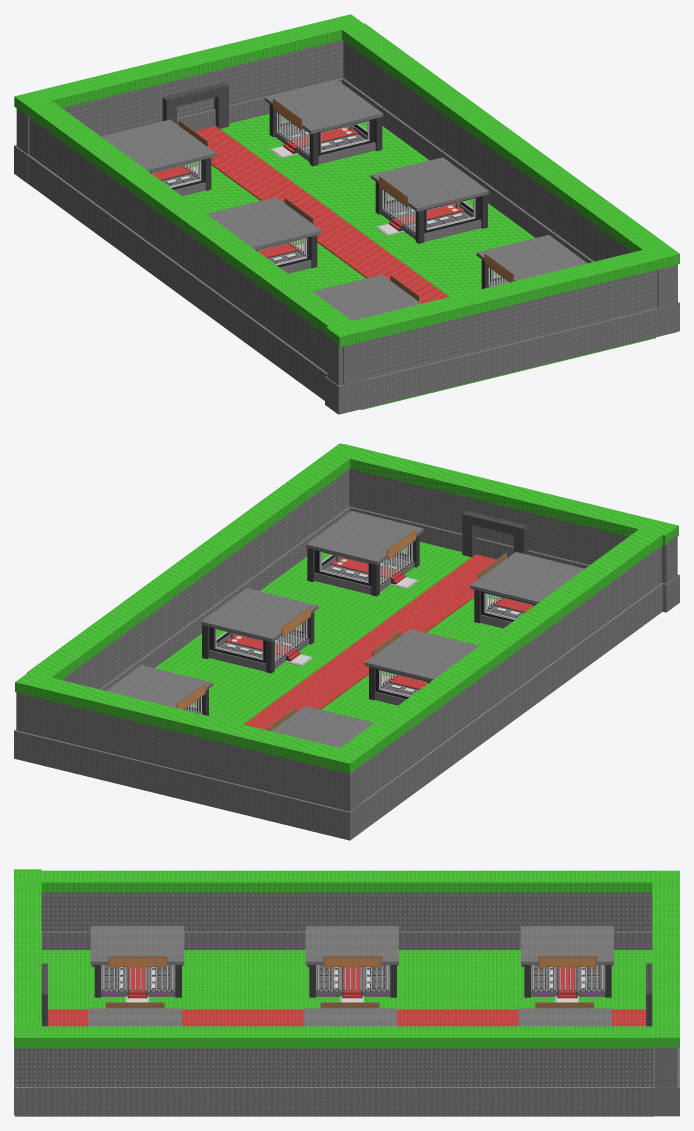
Rendered from brainrot-map.glb.
3 views of the same model, one above another, from view 1: azimuth 30°, elevation 25°; view 2: azimuth 150°, elevation 25°; view 3: azimuth 270°, elevation 25° (orthographic). The views are drawn at different scales.
Visible parts, largest first — view 1: Map, Base, Base.001; view 2: Map, Base, Base.001; view 3: Map, Base.001, Base.
Boxes of the visible parts, left/top/right/bottom form: Map: left=14, top=14, right=679, bottom=414; Base: left=265, top=80, right=587, bottom=288; Base.001: left=101, top=119, right=421, bottom=320; Map: left=14, top=443, right=679, bottom=840; Base: left=106, top=511, right=423, bottom=715; Base.001: left=267, top=552, right=584, bottom=747; Map: left=14, top=869, right=679, bottom=1116; Base.001: left=90, top=926, right=613, bottom=1002; Base: left=88, top=1002, right=611, bottom=1026.
Size of the model in its own units: 3.21 by 0.7057 by 5.34.
Materials: 23 (15 with a texture image).
